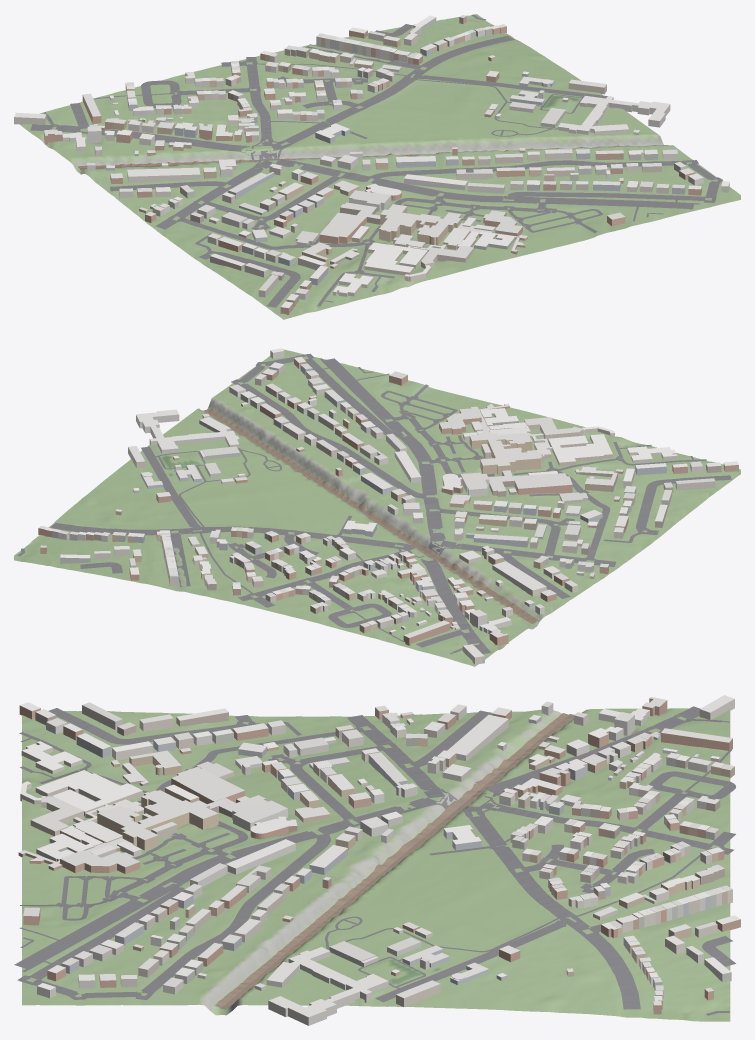
3 renders of one model, top to bottom at view 1: azimuth 30°, elevation 25°; view 2: azimuth 150°, elevation 25°; view 3: azimuth 270°, elevation 25°, orthographic. The views are drawn at different scales.
Visible parts, largest first — view 1: prim0, prim1, prim2, prim3; view 2: prim0, prim1, prim2, prim3; view 3: prim0, prim1, prim2, prim3.
Boxes of the visible parts, x1,y1,x2,y2 form: prim0: (20,14,740,319); prim1: (14,15,729,314); prim2: (30,14,722,307); prim3: (78,149,569,169); prim0: (14,349,740,666); prim1: (38,348,738,664); prim2: (17,353,731,654); prim3: (204,408,538,623); prim0: (22,708,730,1021); prim1: (18,695,740,1025); prim2: (14,706,735,1015); prim3: (215,713,574,1009).
Size of the model in its own units: 561 by 25.46 by 526.
